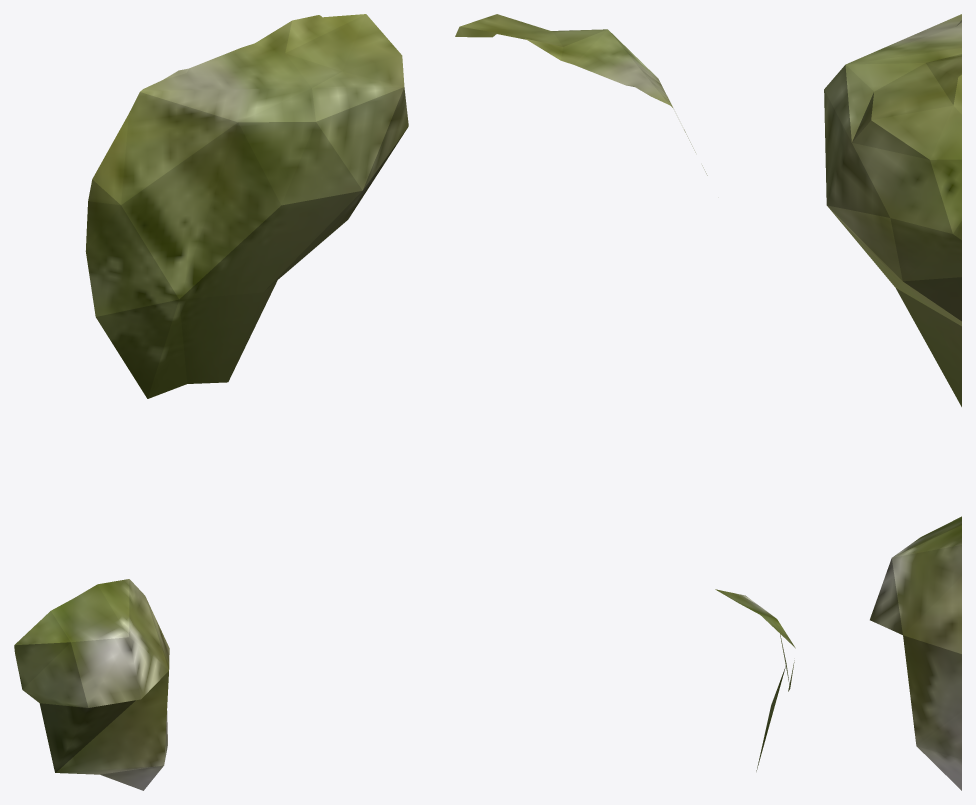
The picture shows the model from 3 angles, left to right: view 1: azimuth 30°, elevation 25°; view 2: azimuth 150°, elevation 25°; view 3: azimuth 270°, elevation 25°; orthographic projection. The views are drawn at different scales.
Size of the model in its own units: 0.6499 by 1.23 by 0.1891.
1 material, 1 textured.
